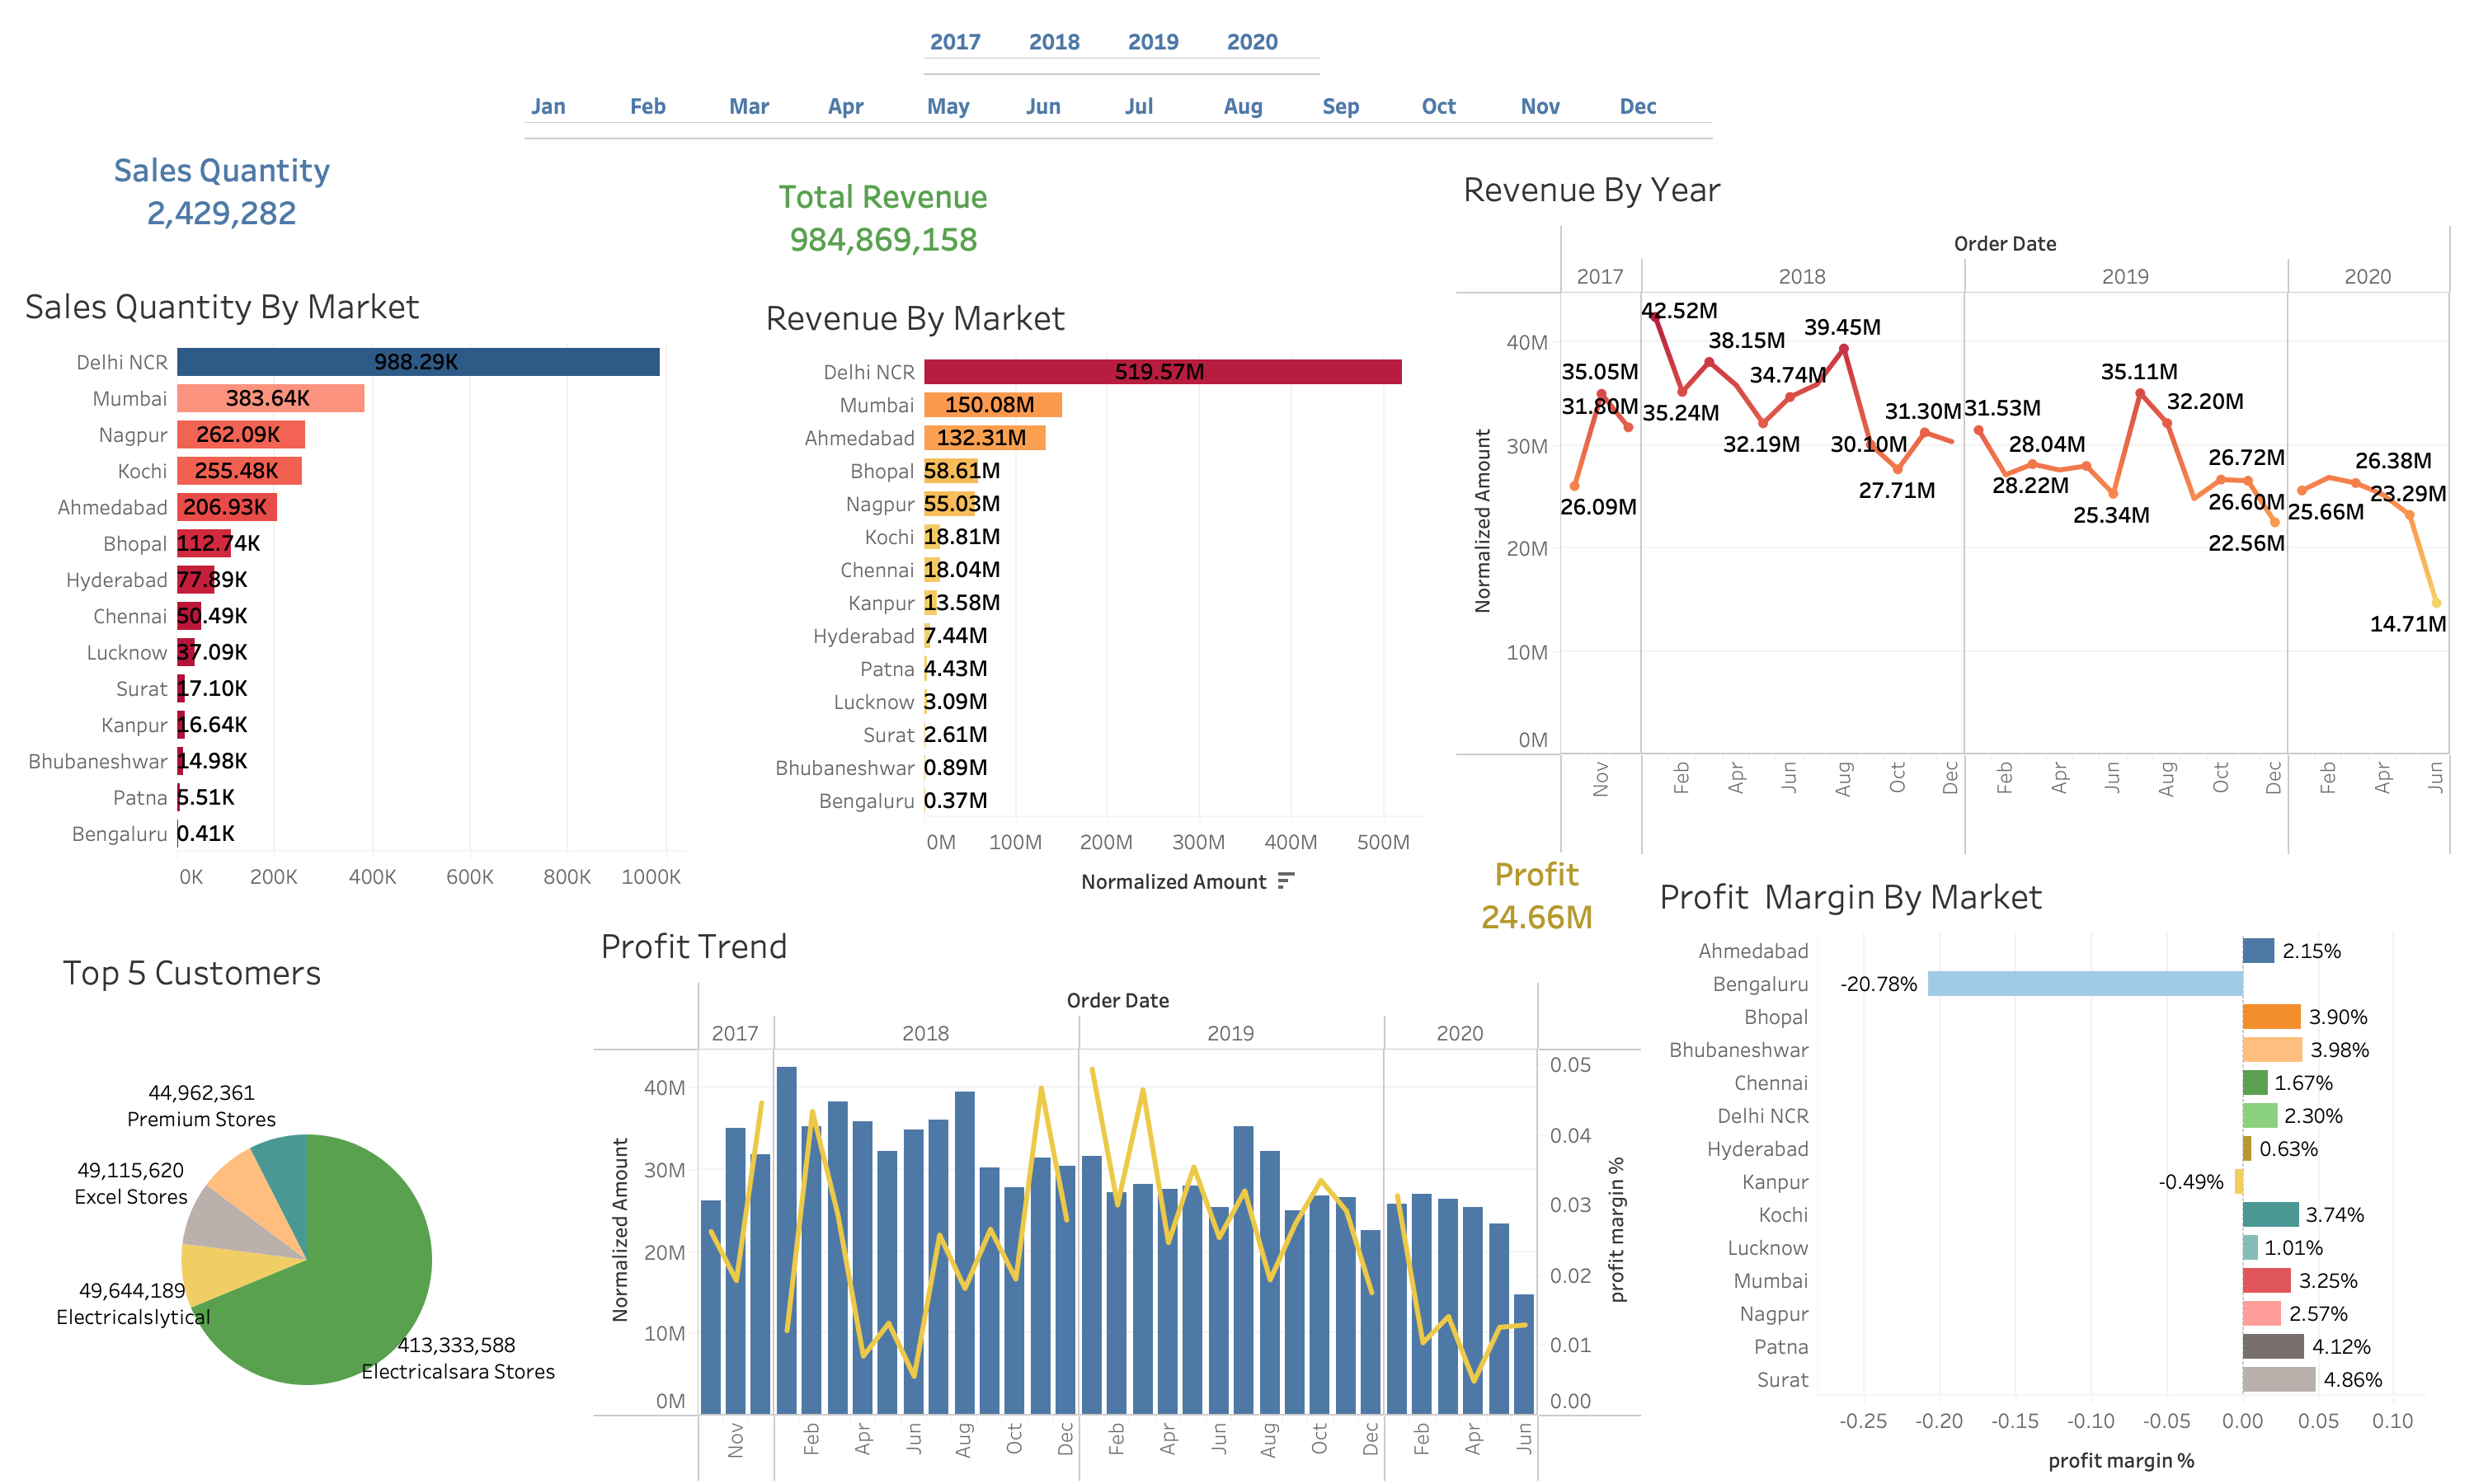

This screenshot's page, from the dashboard's own definition file:
{"tool":"tableau","page":{"name":"Dashboard 1","canvas":[1500,900],"ordinal":0},"visuals":[{"type":"worksheet","title":"Year","mark":"Automatic","cols":["Cy Date"],"box":[560,15,290,35]},{"type":"worksheet","title":"Months","mark":"Automatic","cols":["Cy Date"],"box":[318,54,792,56]},{"type":"worksheet","title":"Quantity","mark":"Automatic","box":[65,90,177,69]},{"type":"worksheet","title":"Revenue By Year","mark":"Automatic","rows":["Normalized Amount"],"cols":["Order Date","Order Date"],"box":[883,94,603,425]},{"type":"worksheet","title":"Revenue","mark":"Automatic","box":[466,106,202,54]},{"type":"worksheet","title":"Sales Quantity By Market","mark":"Automatic","rows":["Markets Name"],"cols":["Sales Qty"],"box":[11,165,404,408]},{"type":"worksheet","title":"Revenue By Market","mark":"Automatic","rows":["Markets Name"],"cols":["Normalized Amount"],"box":[460,172,404,403]},{"type":"worksheet","title":"Profit","mark":"Automatic","box":[893,517,105,75]},{"type":"worksheet","title":"Profit Trend","mark":"Automatic","rows":["Normalized Amount","Calculation_1115274248054890497"],"cols":["Order Date","Order Date"],"box":[360,553,636,346]}]}

Visuals, with their boxes in screenshot pixels (x1, y1, x2, y2), scaled from the page's 1500x900 canvas onto the 2474x1484 screenshot:
"Year" worksheet: detection(924, 25, 1402, 82)
"Months" worksheet: detection(524, 89, 1831, 181)
"Quantity" worksheet: detection(107, 148, 399, 262)
"Revenue By Year" worksheet: detection(1456, 155, 2451, 856)
"Revenue" worksheet: detection(769, 175, 1102, 264)
"Sales Quantity By Market" worksheet: detection(18, 272, 684, 945)
"Revenue By Market" worksheet: detection(759, 284, 1425, 948)
"Profit" worksheet: detection(1473, 852, 1646, 976)
"Profit Trend" worksheet: detection(594, 912, 1643, 1482)
